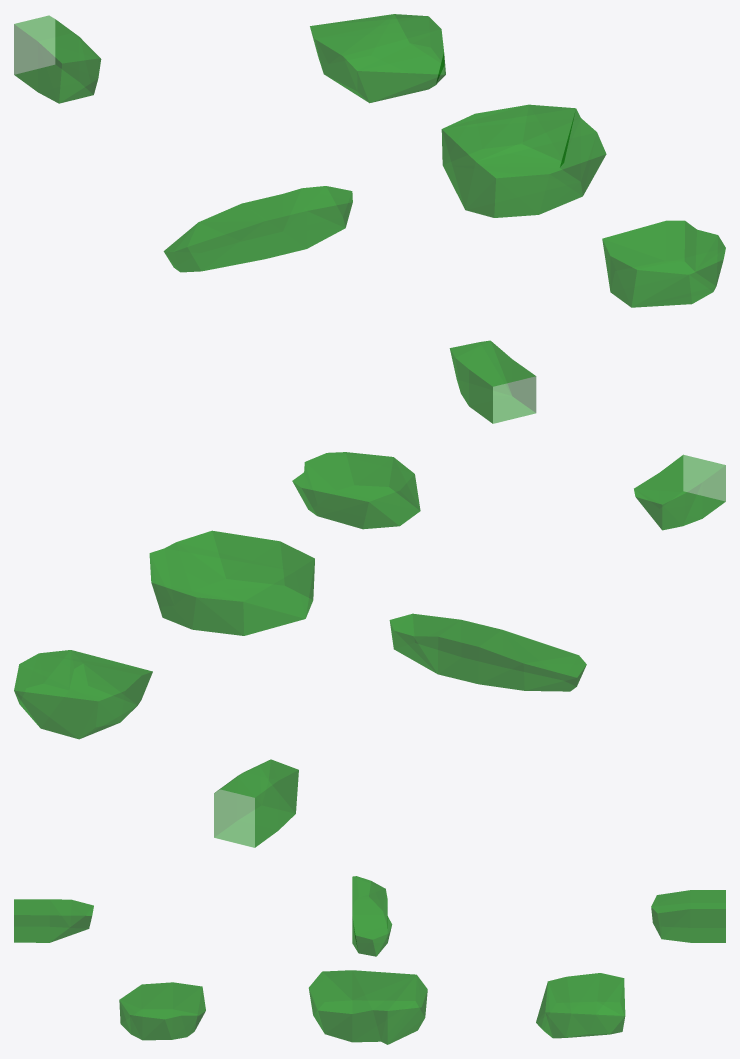
File: stg121_C_hit.polymsh_detached439.obj
3 renders of one model, top to bottom at view 1: azimuth 30°, elevation 25°; view 2: azimuth 150°, elevation 25°; view 3: azimuth 270°, elevation 25°, orthographic. The views are drawn at different scales.
Size of the model in its own units: 20.43 by 2.38 by 40.
